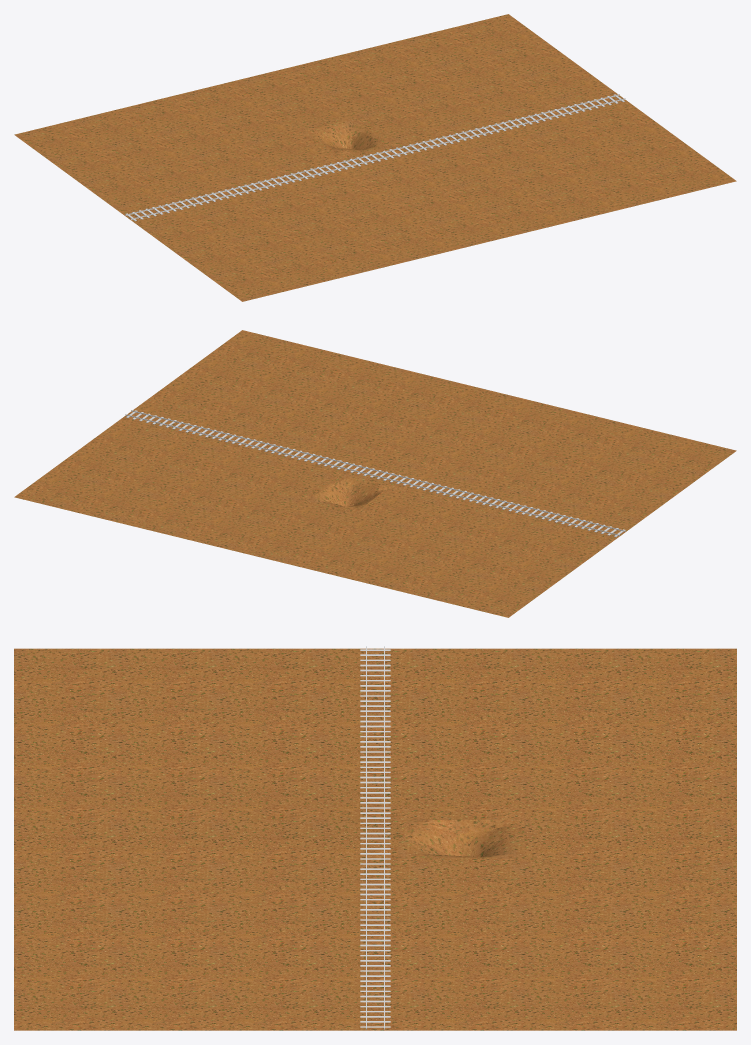
Rendered from Terrain_4.FBX.
3 views of the same model, one above another, from view 1: azimuth 30°, elevation 25°; view 2: azimuth 150°, elevation 25°; view 3: azimuth 270°, elevation 25° (orthographic). The views are drawn at different scales.
Visible parts, largest first — view 1: Terrain, Rails, Rails002, Rails001; view 2: Terrain, Rails, Rails002, Rails001; view 3: Terrain.
Part boxes in pixels (bbox=[...]): Terrain: bbox=[14, 14, 736, 301]; Rails: bbox=[125, 174, 295, 219]; Rails002: bbox=[455, 94, 625, 139]; Rails001: bbox=[290, 134, 460, 179]; Terrain: bbox=[14, 330, 736, 617]; Rails: bbox=[455, 490, 625, 535]; Rails002: bbox=[125, 410, 295, 455]; Rails001: bbox=[290, 450, 460, 495]; Terrain: bbox=[14, 648, 736, 1030].
Bounding box in the file's own units: 150 × 7.68 × 120.
